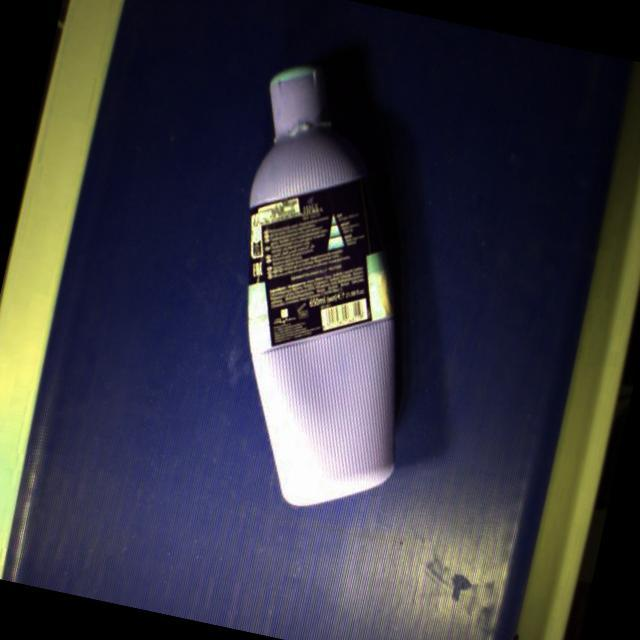HDPE Plastic: (238, 60, 404, 514)
